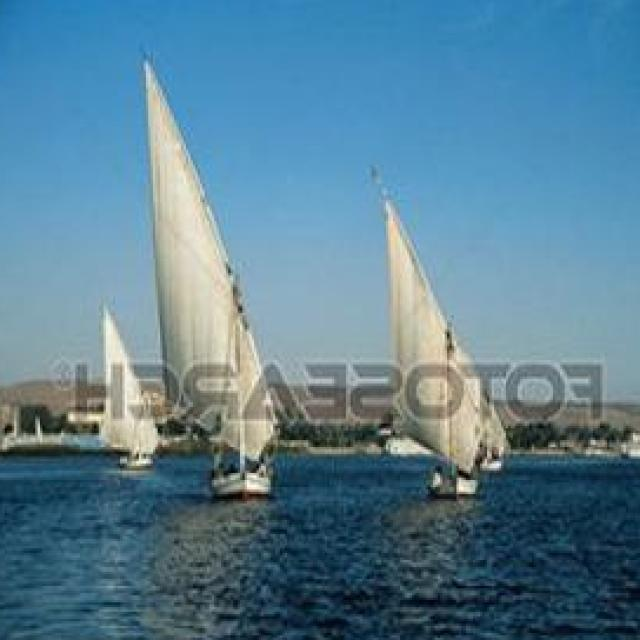sailboat: (137, 47, 283, 500), (368, 160, 492, 500), (94, 297, 156, 468)
